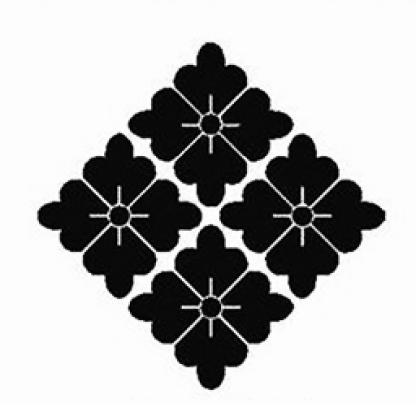kamon: (33, 41, 388, 392)
